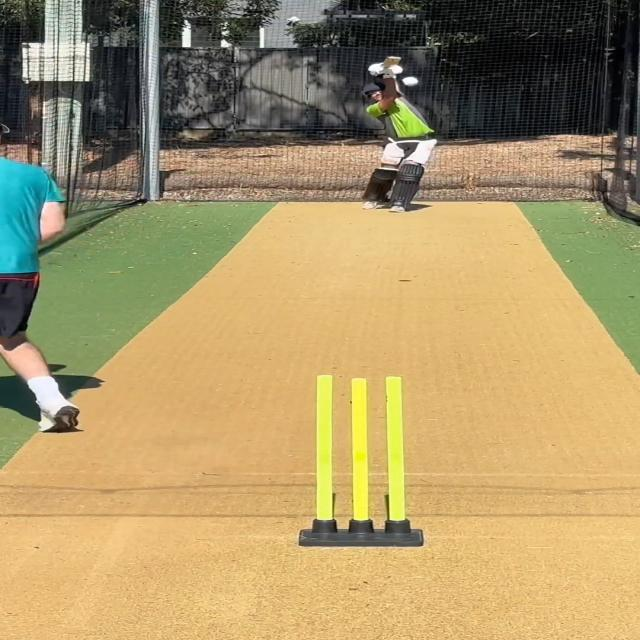ball: (398, 75, 424, 88)
stump: (293, 373, 429, 548)
